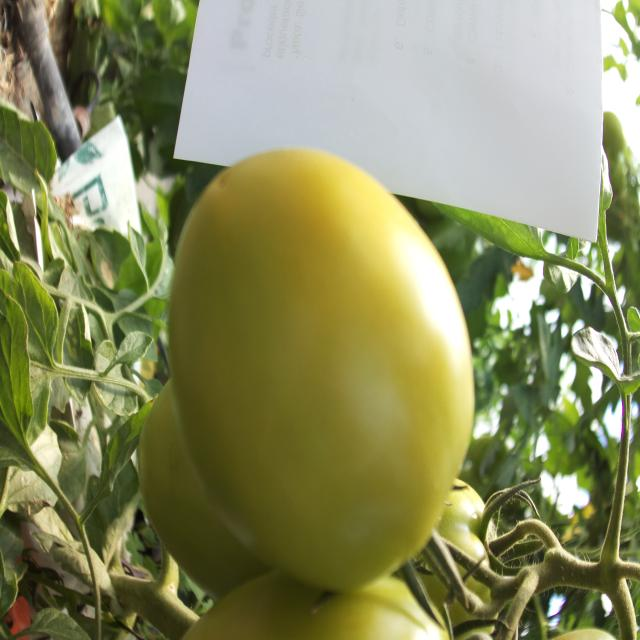kirmizi: (134, 113, 472, 590)
